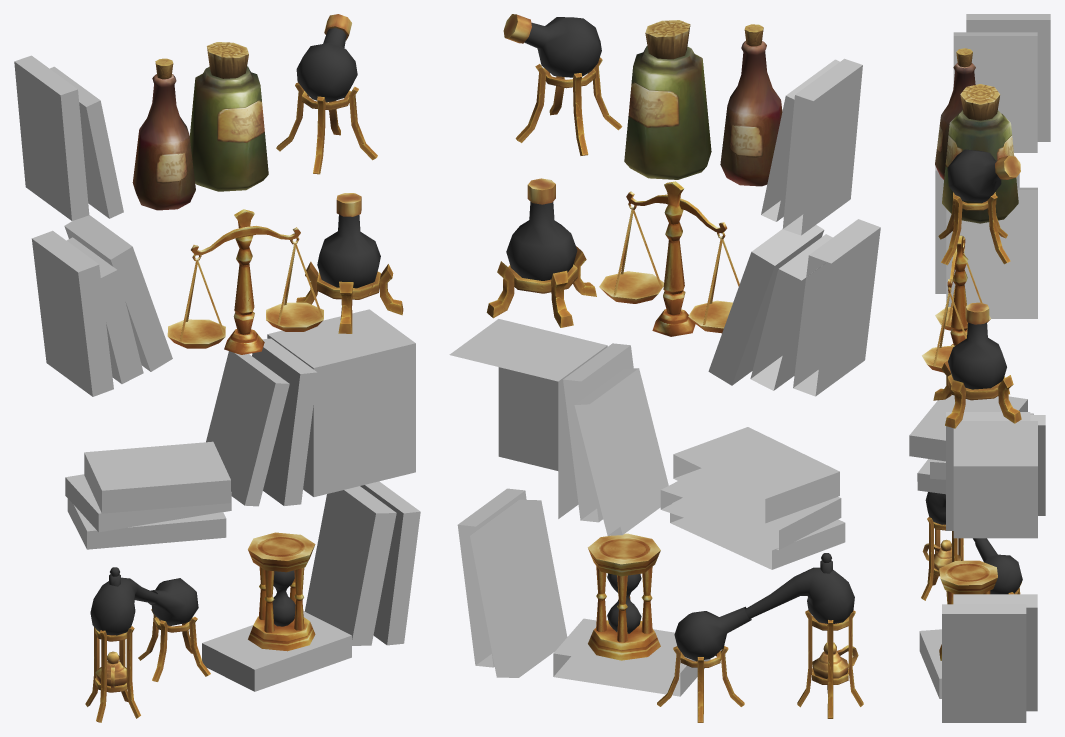
Rendered from Cupboard_Preset_02.FBX.
3 renders of one model, left to right at view 1: azimuth 30°, elevation 25°; view 2: azimuth 150°, elevation 25°; view 3: azimuth 270°, elevation 25°, orthographic. The views are drawn at different scales.
Parts seen in each view (by area): view 1: Cupboard_Preset_02; view 2: Cupboard_Preset_02; view 3: Cupboard_Preset_02.
Part boxes in pixels (x1=…): Cupboard_Preset_02: x1=14, y1=14, x2=420, y2=722; Cupboard_Preset_02: x1=449, y1=14, x2=880, y2=722; Cupboard_Preset_02: x1=909, y1=14, x2=1050, y2=722.
Size of the model in its own units: 130 by 50.24 by 224.
